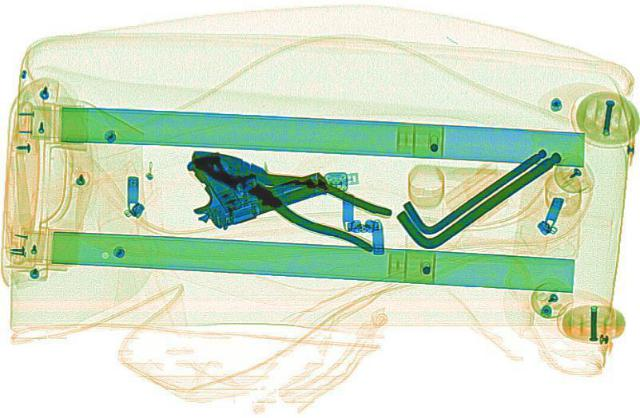Gun: (151, 129, 335, 231)
Pliers: (168, 133, 410, 253)
